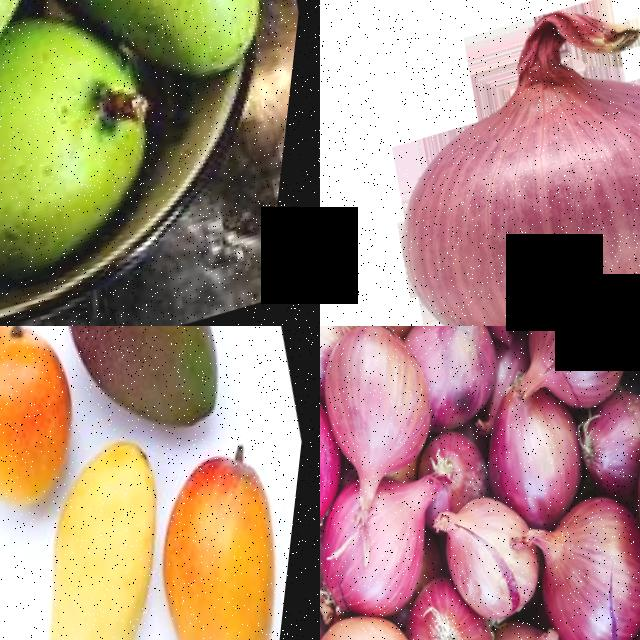mango: (0, 0, 198, 270), (0, 435, 215, 640), (133, 438, 308, 640), (21, 326, 259, 459), (0, 326, 110, 529), (4, 0, 299, 63)
onion: (339, 0, 640, 326), (320, 326, 459, 493), (320, 467, 459, 625), (471, 385, 606, 531), (526, 488, 640, 640), (438, 484, 557, 621), (402, 326, 516, 423), (510, 326, 640, 411), (320, 362, 364, 537)
